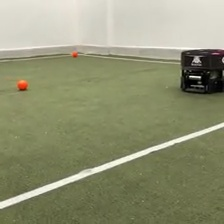ball: (15, 78, 29, 91), (70, 49, 79, 57)
robot: (177, 47, 224, 96)
